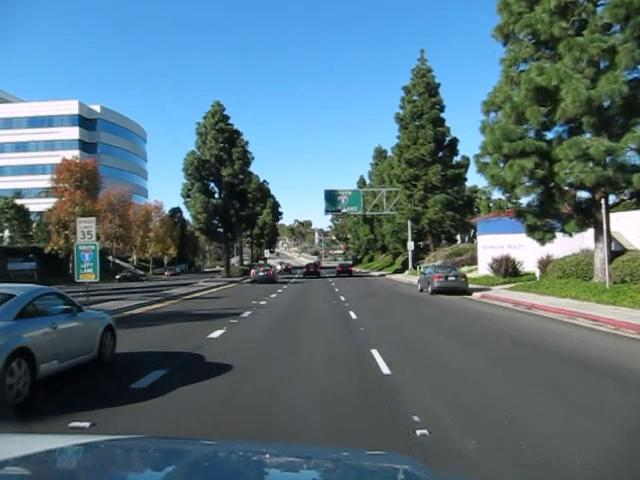speedLimit35: (76, 216, 96, 242)
